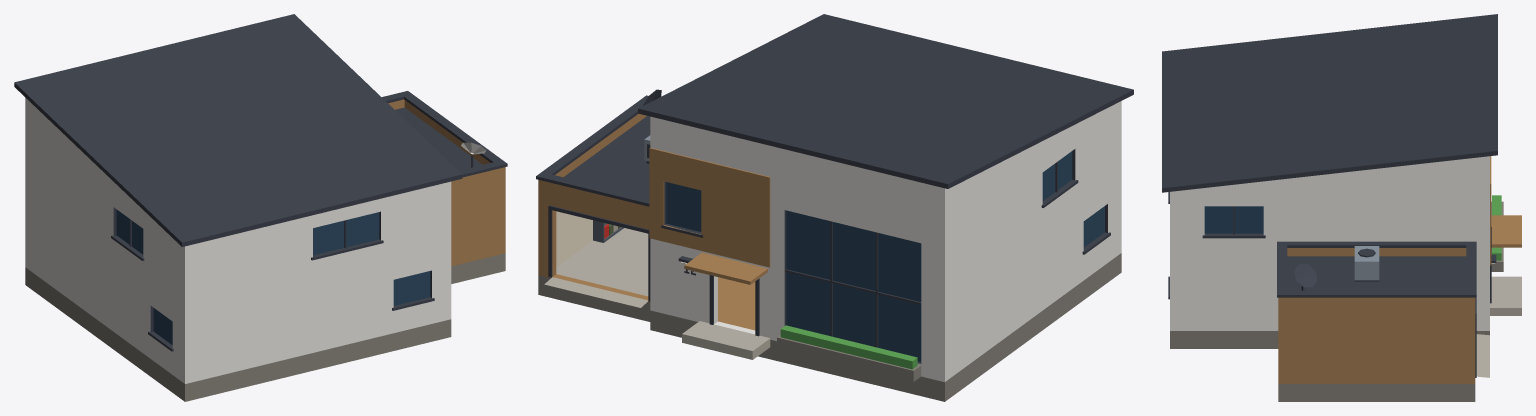
File: safehouse.glb
3 views of the same model, side by side, from view 1: azimuth 30°, elevation 25°; view 2: azimuth 150°, elevation 25°; view 3: azimuth 270°, elevation 25° (orthographic). The views are drawn at different scales.
Parts seen in each view (by area): view 1: Building, Building_Glass; view 2: Building, Building_Glass, Building_Detail; view 3: Building, Building_Detail, Building_Glass.
Part boxes in pixels (x1=…): Building: x1=14, y1=14, x2=507, y2=401; Building_Glass: x1=116, y1=209, x2=430, y2=344; Building: x1=536, y1=14, x2=1133, y2=401; Building_Glass: x1=666, y1=151, x2=1104, y2=362; Building_Detail: x1=643, y1=89, x2=917, y2=369; Building: x1=1162, y1=14, x2=1521, y2=401; Building_Detail: x1=1294, y1=195, x2=1521, y2=290; Building_Glass: x1=1204, y1=206, x2=1263, y2=233.
Bounding box in the file's own units: 17.99 × 9.04 × 14.63.
